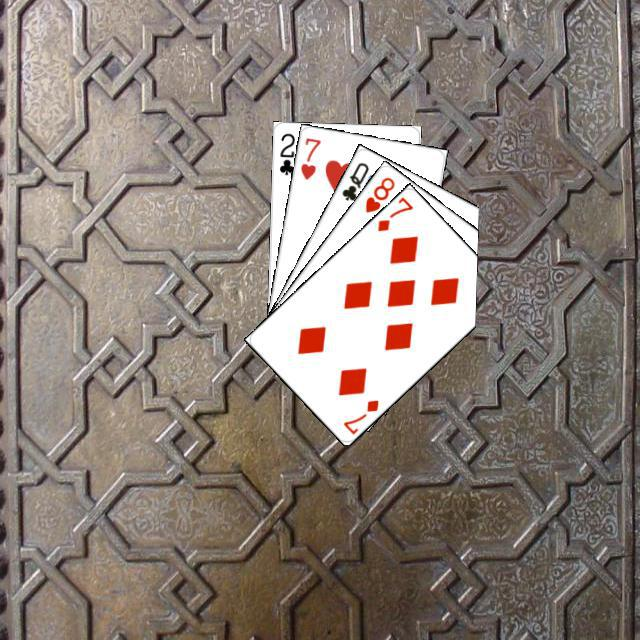2c: (274, 128, 296, 177)
7d: (372, 193, 415, 233), (338, 395, 380, 435)
7h: (296, 133, 323, 181)
8h: (360, 172, 396, 214)
Qc: (337, 157, 375, 210)
